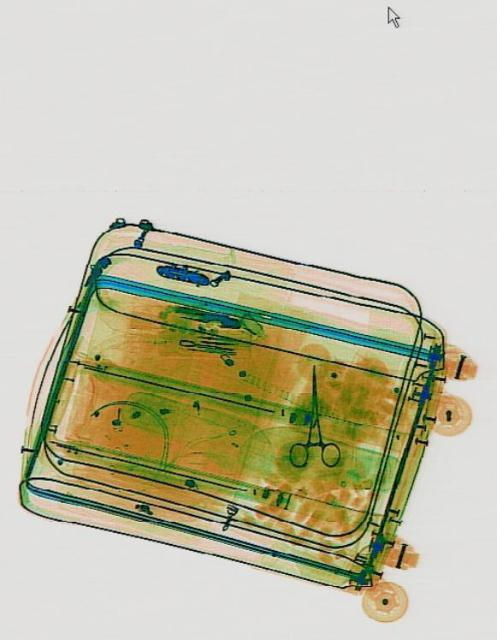Scissors: (287, 364, 339, 468)
